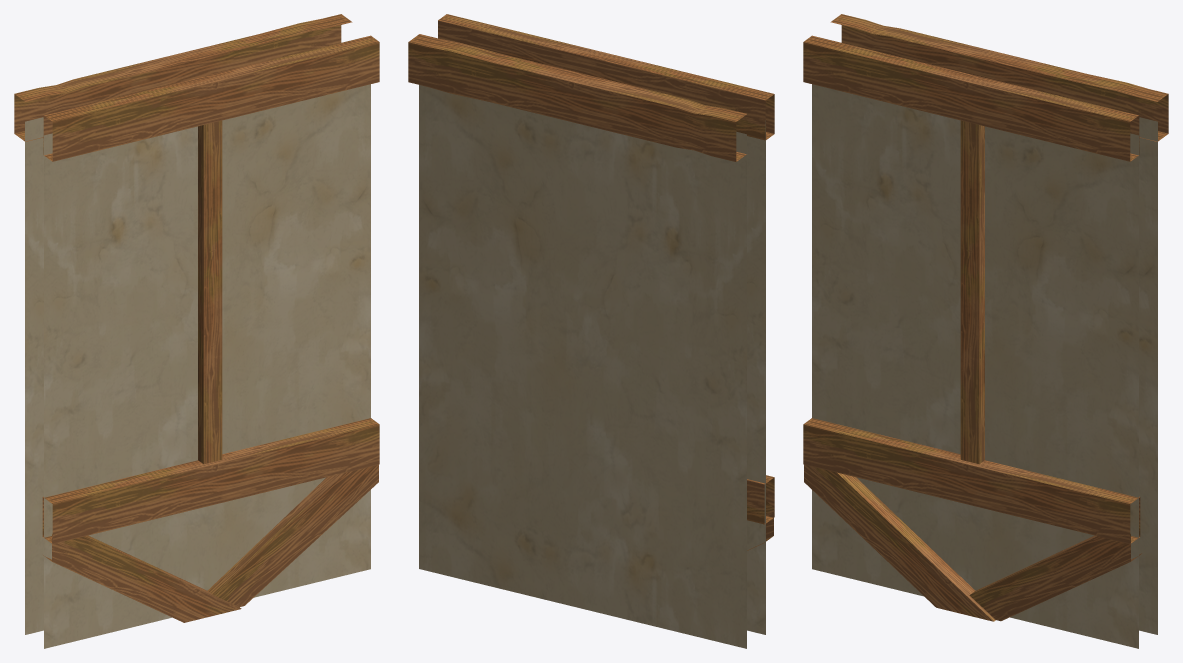
File: Wall_Plaster_Straight.glb
The picture shows the model from 3 angles, left to right: view 1: azimuth 30°, elevation 25°; view 2: azimuth 150°, elevation 25°; view 3: azimuth 330°, elevation 25°; orthographic projection.
Parts seen in each view (by area): view 1: Wall_Plaster_Straight; view 2: Wall_Plaster_Straight; view 3: Wall_Plaster_Straight.
Boxes of the visible parts, bbox=[...] form: Wall_Plaster_Straight: bbox=[14, 14, 379, 648]; Wall_Plaster_Straight: bbox=[408, 14, 774, 648]; Wall_Plaster_Straight: bbox=[803, 14, 1168, 648].
Bounding box in the file's own units: 2 × 3.12 × 0.4065.
Materials: 2 (2 with a texture image).
